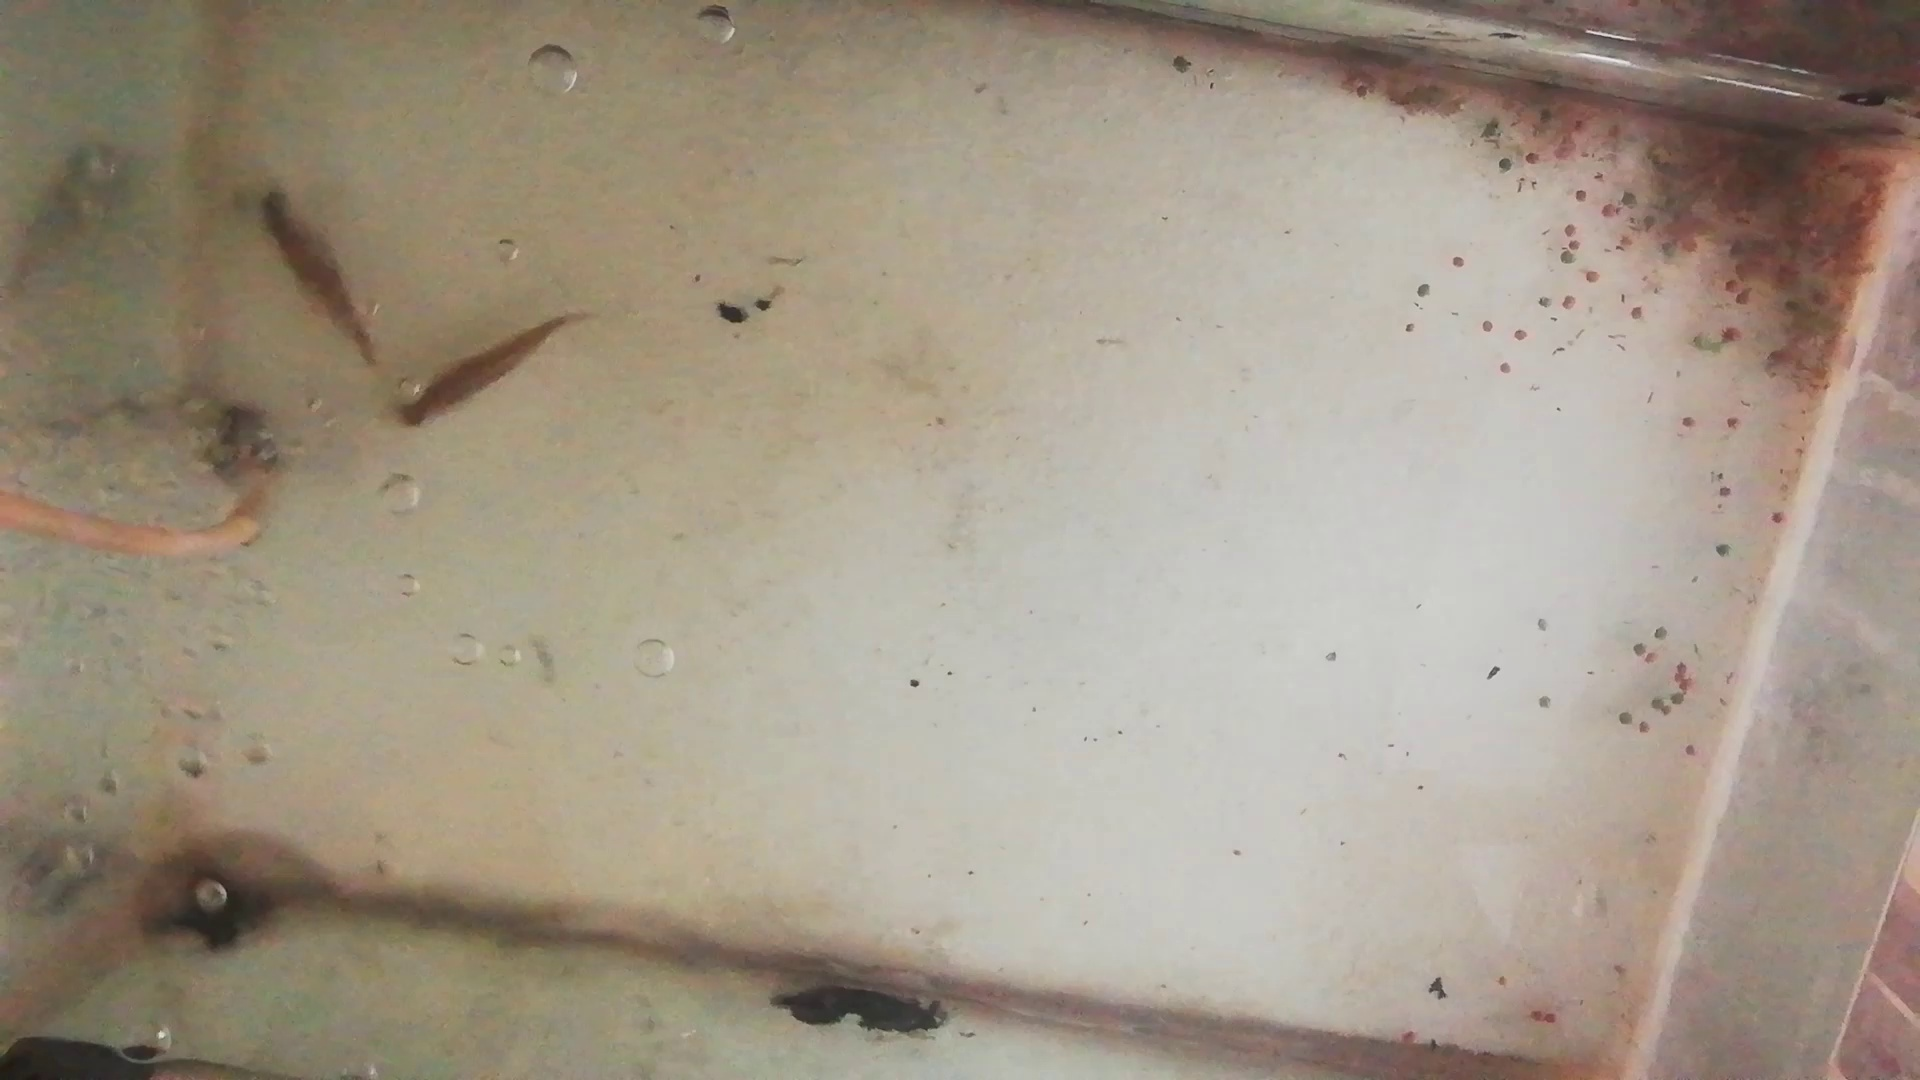fish: (389, 313, 587, 434), (260, 185, 380, 368)
